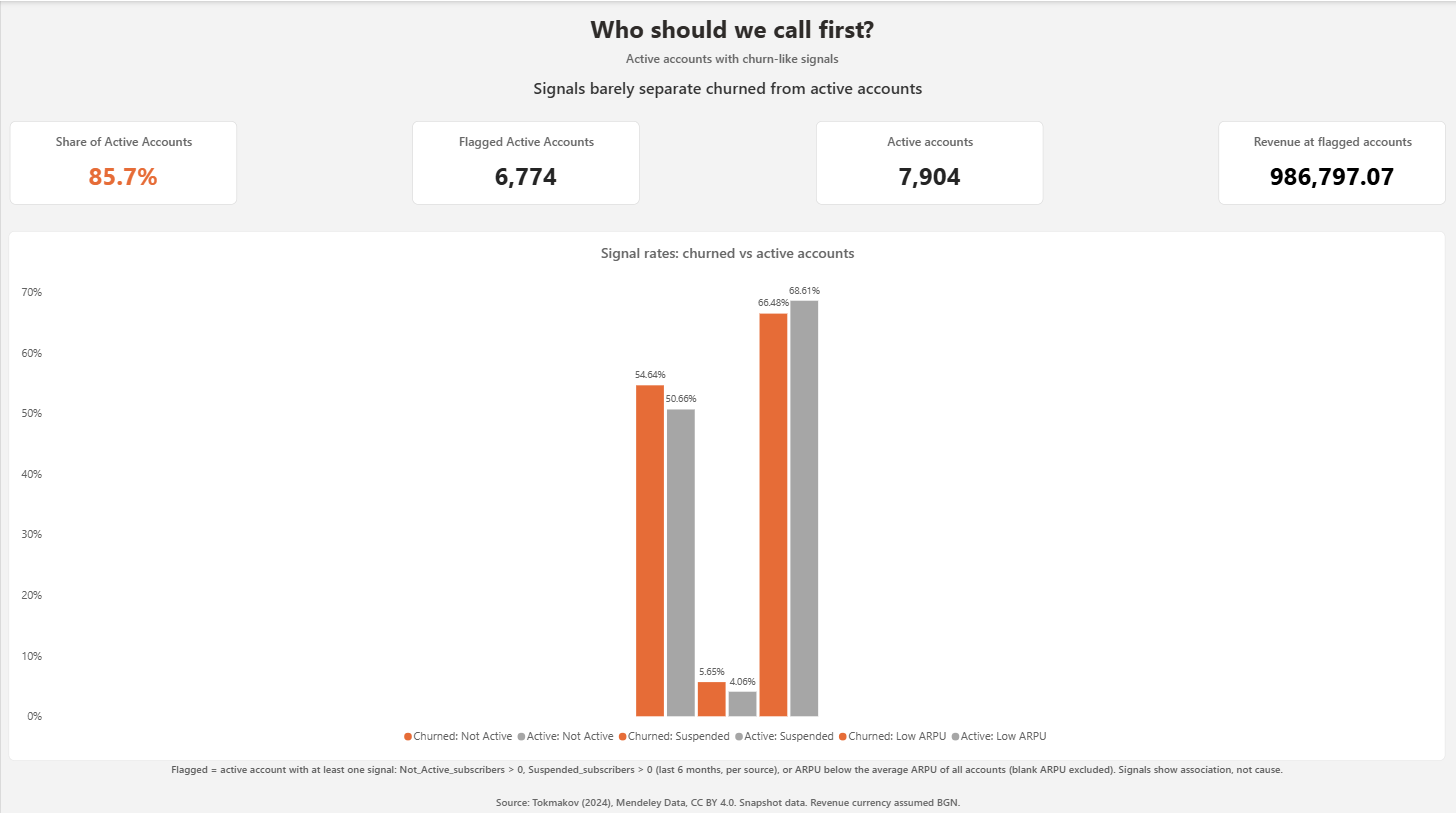

The page's visual inventory and layout, read from the dashboard file:
{"tool":"powerbi","page":{"name":"Retention priority","canvas":[1920,1080],"ordinal":1},"visuals":[{"type":"textbox","box":[9.9,14.8,1910,49.5],"z":0},{"type":"card","title":"Flagged Active Accounts","fields":{"Values":["telecom_customers.Flagged Active Accounts"]},"box":[543.3,158.5,300,110],"z":1000},{"type":"textbox","box":[9.9,64.3,1910,34.6],"z":2000},{"type":"card","title":"Revenue at flagged accounts","fields":{"Values":["telecom_customers.Flagged Revenue"]},"box":[1607.2,158.5,300,110],"z":3000},{"type":"card","title":"Share of Active Accounts","fields":{"Values":["telecom_customers.Share of Active Accounts"]},"box":[11.3,158.5,300,110],"z":4000},{"type":"card","title":"Active accounts","fields":{"Values":["telecom_customers.Active Accounts"]},"box":[1075.2,158.5,300,110],"z":5000},{"type":"textbox","box":[0,1047.2,1918.9,32.1],"z":6000},{"type":"textbox","box":[0,99,1918.2,37.9],"z":7000},{"type":"clusteredColumnChart","title":"Signal rates: churned vs active accounts","fields":{"Y":["telecom_customers.Churned Not Active %","telecom_customers.Active Not Active %","telecom_customers.Churned Suspended %","telecom_customers.Active Suspended %","telecom_customers.Churned Low ARPU %","telecom_customers.Active Low ARPU %"]},"box":[10,304,1896.3,698.8],"z":8000},{"type":"textbox","box":[9.3,1002.8,1896.3,29.7],"z":9000}]}

Visuals, with their boxes in screenshot pixels (x1, y1, x2, y2), scaled from the page's 1920x1080 canvas onto the 1456x813 screenshot:
textbox: [8, 11, 1455, 48]
"Flagged Active Accounts" card: [412, 119, 640, 202]
textbox: [8, 48, 1455, 74]
"Revenue at flagged accounts" card: [1219, 119, 1446, 202]
"Share of Active Accounts" card: [9, 119, 236, 202]
"Active accounts" card: [815, 119, 1043, 202]
textbox: [0, 788, 1455, 812]
textbox: [0, 75, 1455, 103]
"Signal rates: churned vs active accounts" clusteredColumnChart: [8, 229, 1446, 755]
textbox: [7, 755, 1445, 777]
